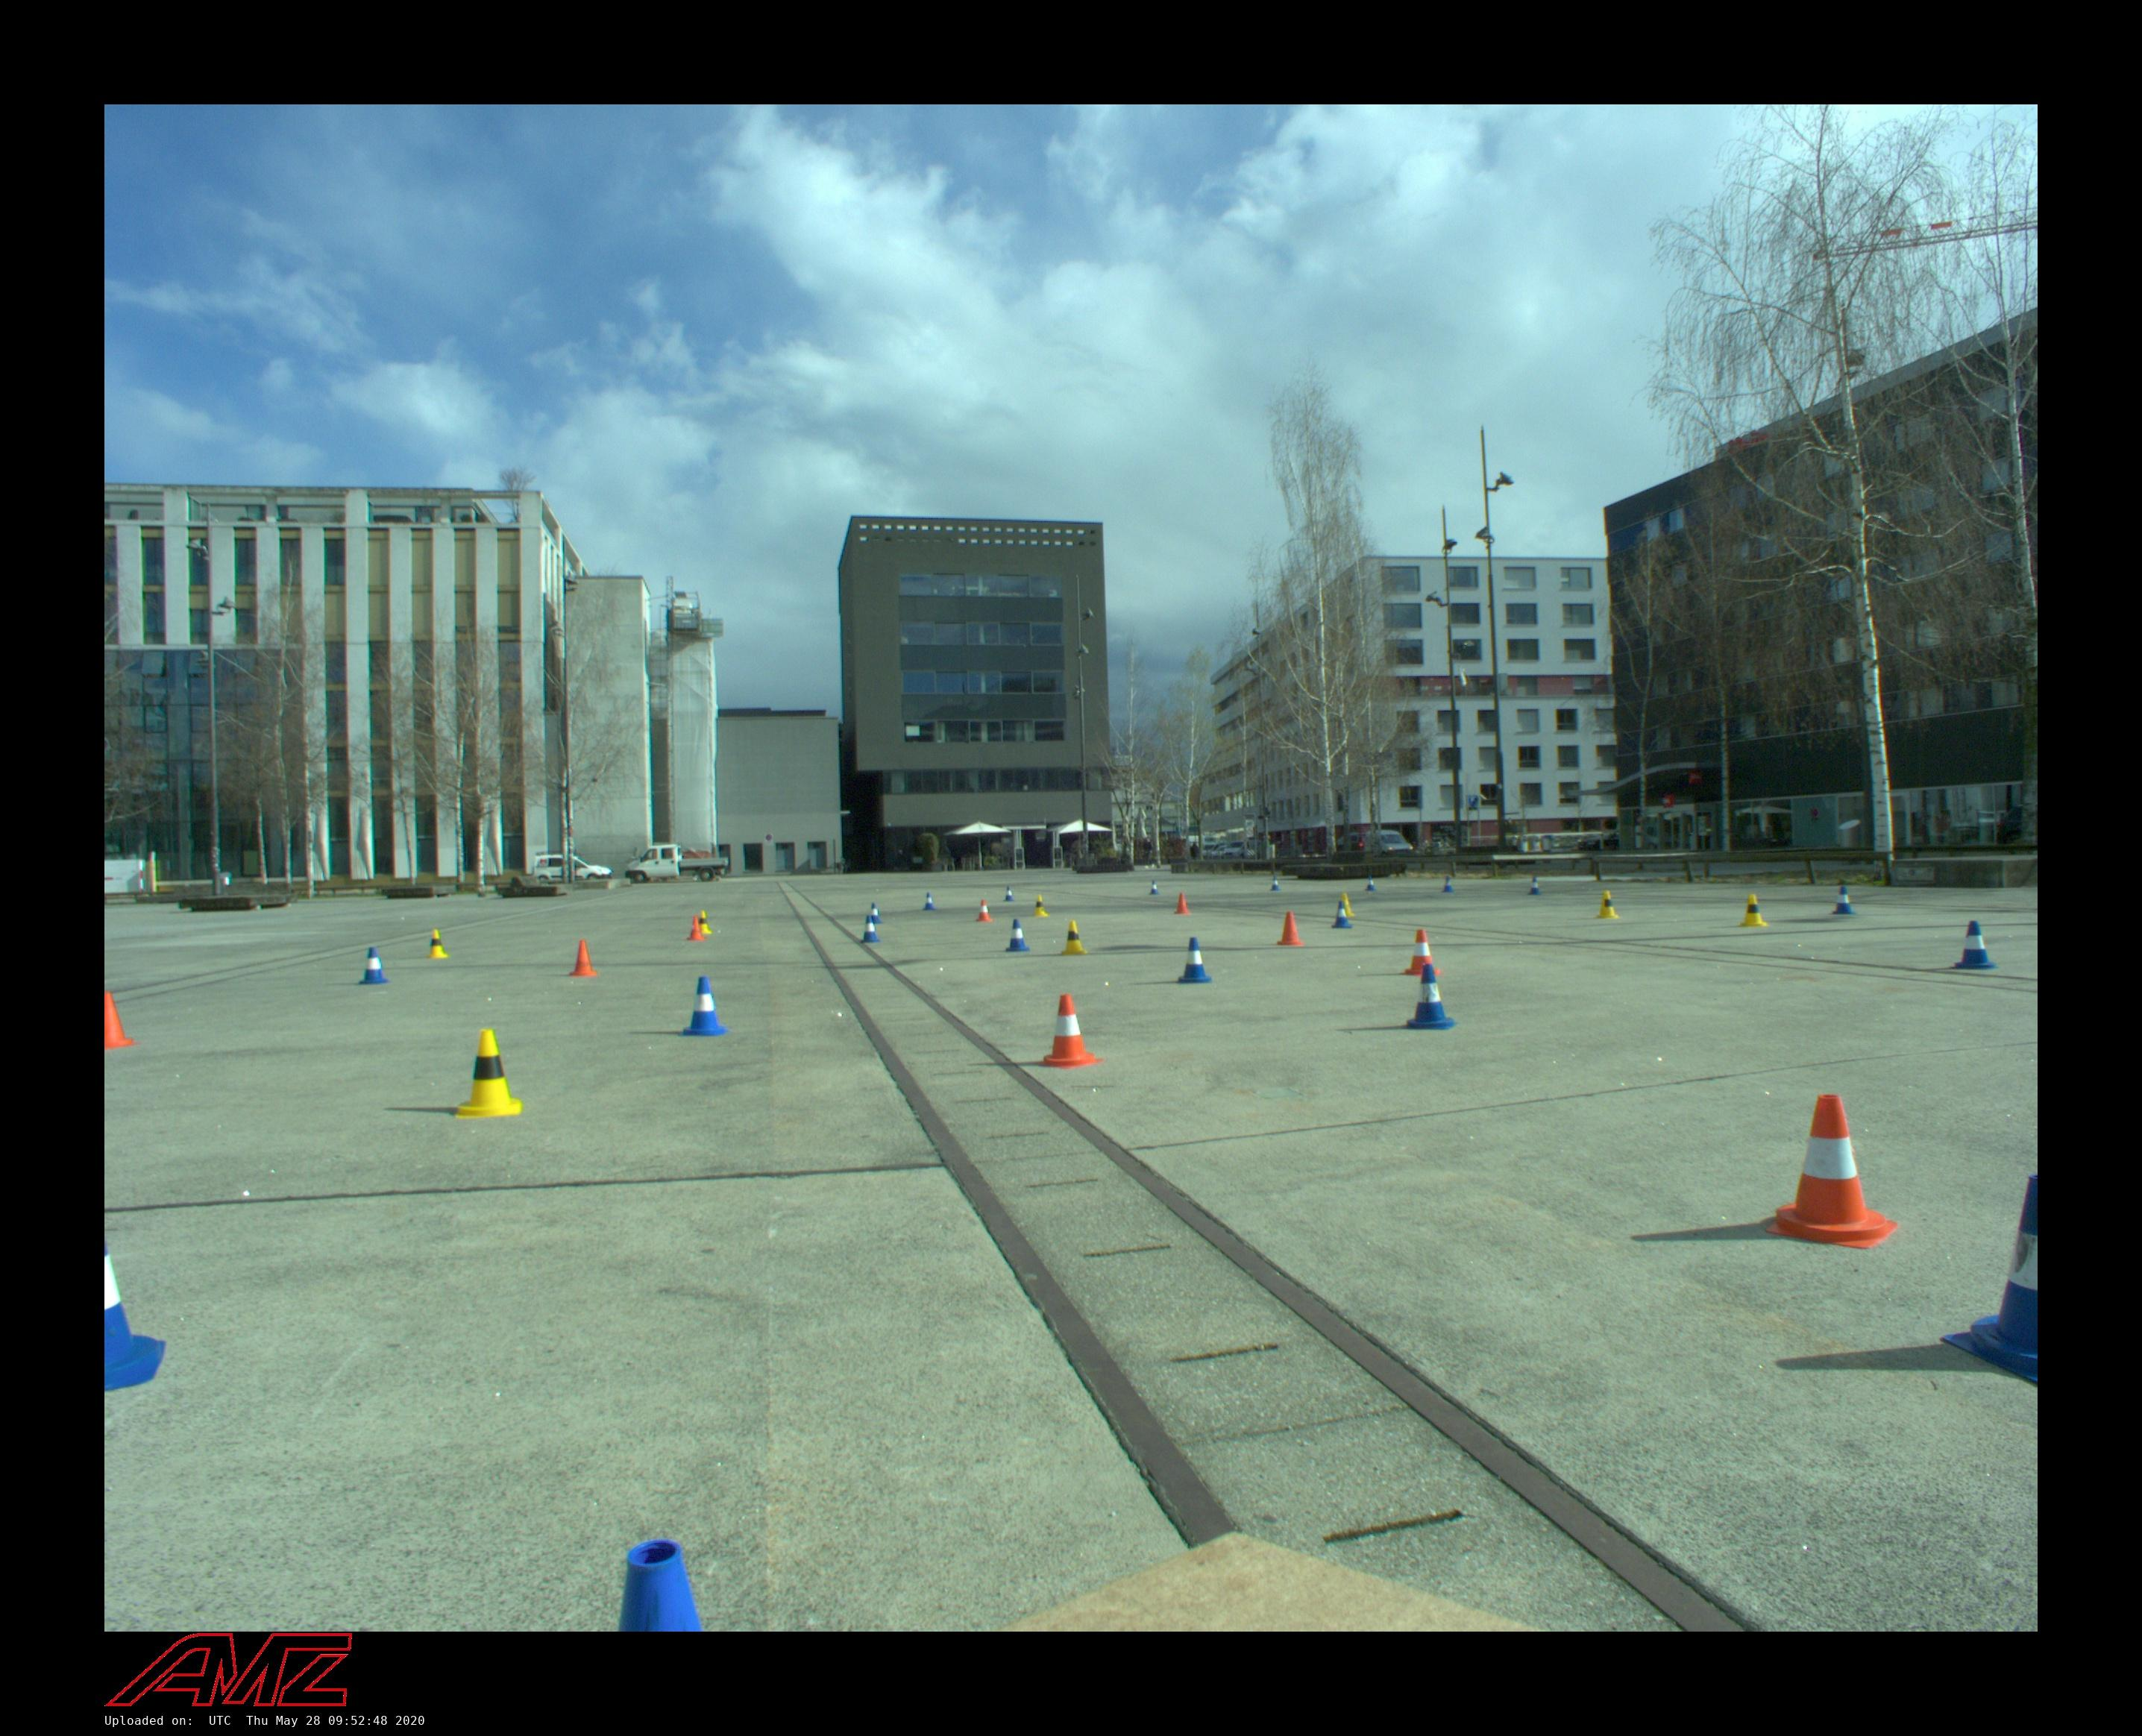blue_cone: (1940, 1174, 2037, 1387), (1401, 964, 1458, 1033), (679, 976, 728, 1038), (1949, 921, 1998, 971), (1175, 937, 1212, 983), (358, 946, 390, 985), (1828, 886, 1855, 916), (1005, 919, 1029, 951), (859, 916, 881, 944), (1332, 902, 1352, 928), (865, 903, 882, 925), (1527, 877, 1543, 896), (921, 893, 935, 911), (1440, 875, 1453, 893), (1148, 880, 1160, 895), (1364, 877, 1377, 891), (1005, 886, 1015, 902), (1270, 877, 1281, 891)
orange_cone: (1765, 1095, 1898, 1249), (1035, 994, 1104, 1070), (1396, 930, 1444, 978), (105, 992, 140, 1049), (569, 939, 597, 976), (1276, 911, 1304, 946), (687, 916, 705, 941), (974, 900, 992, 921), (1175, 893, 1191, 916)
yellow_cone: (455, 1029, 523, 1120), (1738, 895, 1768, 926), (1061, 919, 1088, 955), (1595, 891, 1619, 919), (427, 930, 450, 958), (1334, 891, 1354, 918), (1031, 895, 1049, 918), (696, 911, 712, 934)
